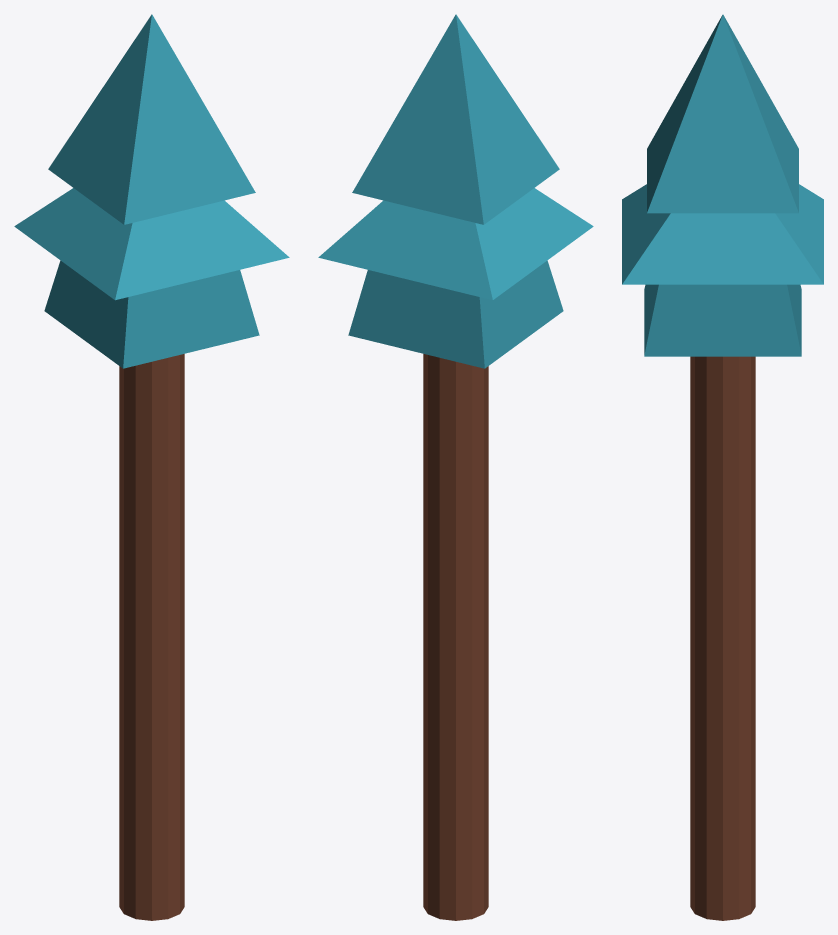
The model's file is Tree_15_summer_blue_vc.fbx.
3 renders of one model, left to right at view 1: azimuth 30°, elevation 25°; view 2: azimuth 150°, elevation 25°; view 3: azimuth 270°, elevation 25°, orthographic.
Visible parts, largest first — view 1: Tree_15_summer_blue_vc; view 2: Tree_15_summer_blue_vc; view 3: Tree_15_summer_blue_vc.
Part boxes in pixels (x1,y1,x2,y2): Tree_15_summer_blue_vc: (14,14,289,920); Tree_15_summer_blue_vc: (318,14,593,920); Tree_15_summer_blue_vc: (622,14,823,920).
Size of the model in its own units: 68.73 by 336 by 68.73.
